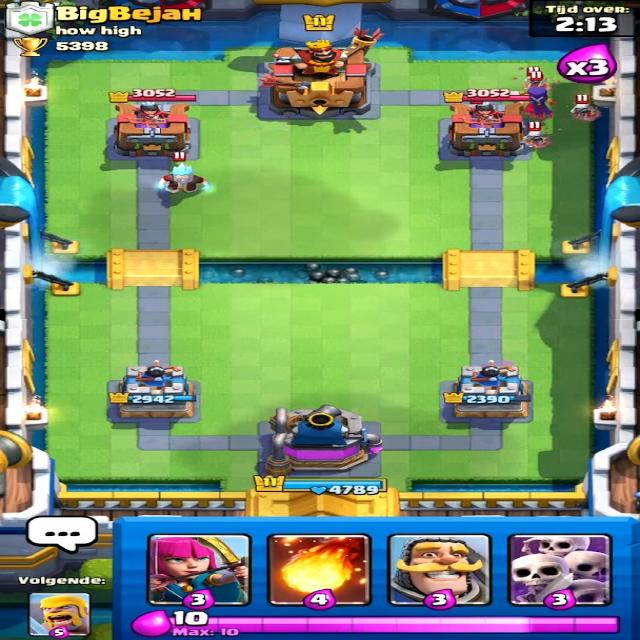Enemy_Ice_Wizard_Troop: (160, 162, 212, 197)
Enemy_Skeleton_Troop: (566, 104, 600, 118), (526, 131, 552, 147)
Enemy_Witch_Troop: (516, 85, 563, 121)
Fireball_Card: (274, 535, 364, 604)
